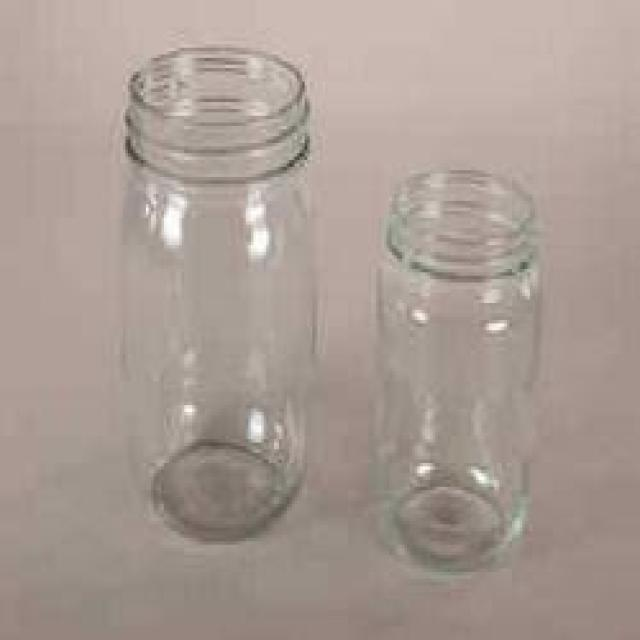Glass: (115, 44, 323, 545), (372, 164, 544, 576)
